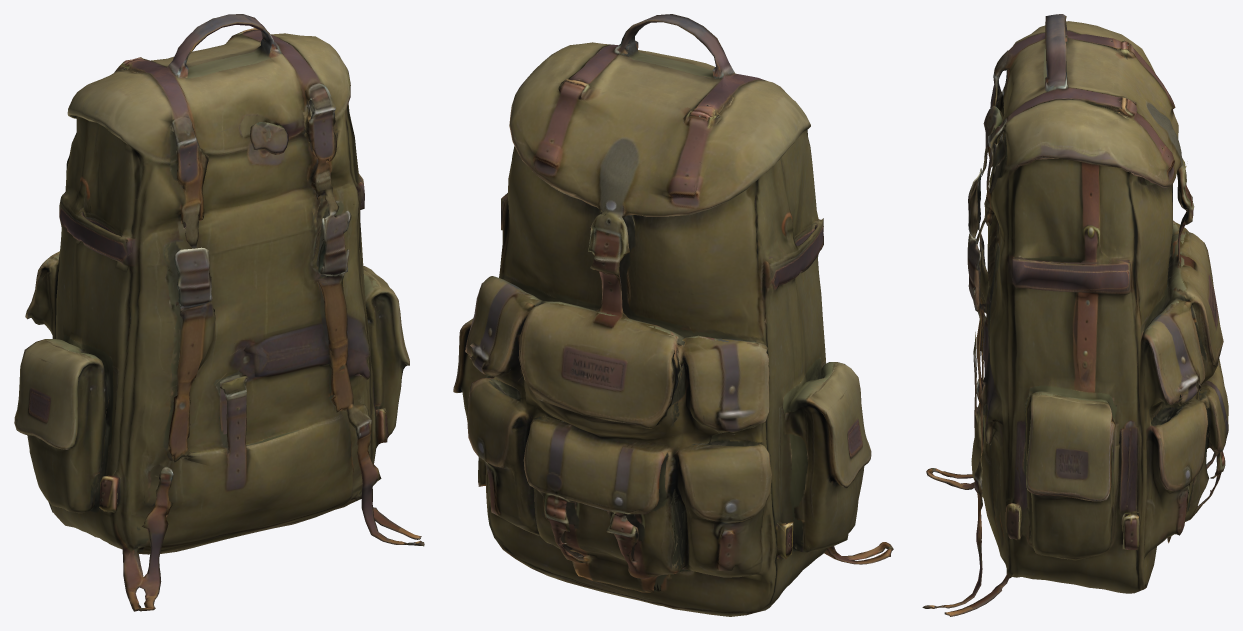
Rendered from HomebaseBackpack_LOD00.gltf.
3 renders of one model, left to right at view 1: azimuth 30°, elevation 25°; view 2: azimuth 150°, elevation 25°; view 3: azimuth 270°, elevation 25°, orthographic. The views are drawn at different scales.
Parts seen in each view (by area): view 1: HomebaseBackpack_node; view 2: HomebaseBackpack_node; view 3: HomebaseBackpack_node.
Part boxes in pixels (x1,y1,x2,y2): HomebaseBackpack_node: (14,14,424,611); HomebaseBackpack_node: (453,14,893,616); HomebaseBackpack_node: (922,14,1228,616).
Bounding box in the file's own units: 0.54 × 0.72 × 0.38.
Materials: 1 (1 with a texture image).
